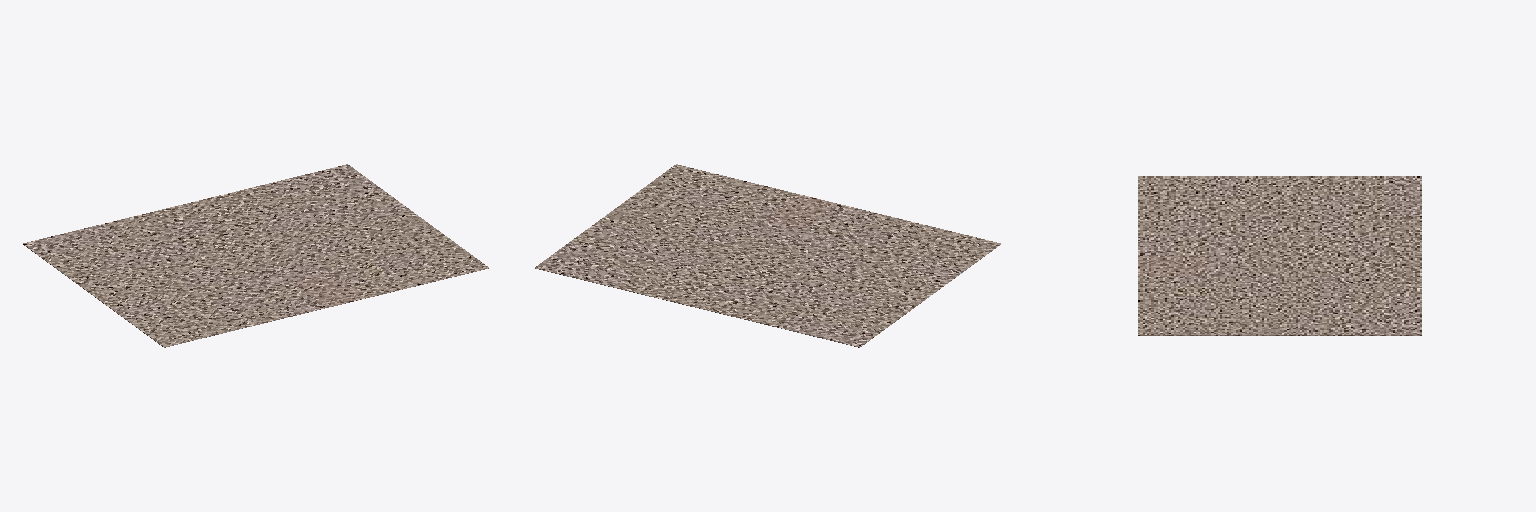
3 renders of one model, left to right at view 1: azimuth 30°, elevation 25°; view 2: azimuth 150°, elevation 25°; view 3: azimuth 270°, elevation 25°, orthographic.
Parts seen in each view (by area): view 1: Object.1; view 2: Object.1; view 3: Object.1.
Boxes of the visible parts, x1,y1,x2,y2 form: Object.1: [23, 164, 488, 347]; Object.1: [535, 164, 1000, 347]; Object.1: [1138, 176, 1421, 335].
Bounding box in the file's own units: 5206 × 6.62 × 3926.
1 materials, 1 textured.